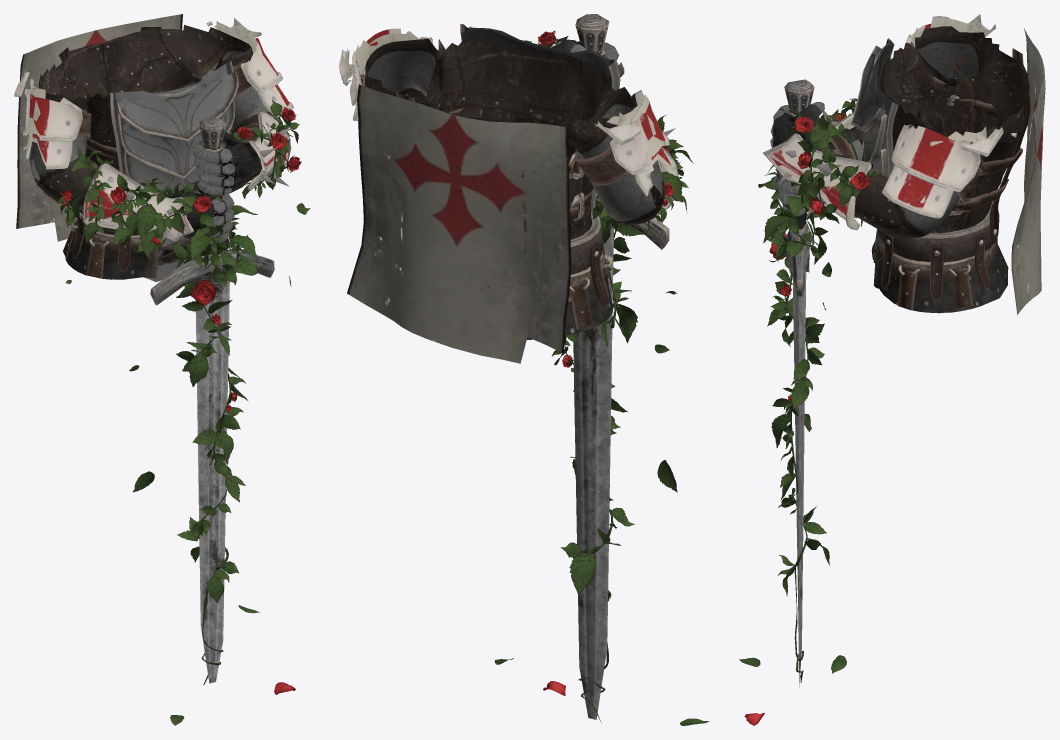
The model's file is gauntlets-mobile.glb.
3 renders of one model, left to right at view 1: azimuth 30°, elevation 25°; view 2: azimuth 150°, elevation 25°; view 3: azimuth 270°, elevation 25°, orthographic. The views are drawn at different scales.
Parts seen in each view (by area): view 1: Object_4, Object_25, Object_18, Object_24, Object_103, Object_10, Object_22; view 2: Object_10, Object_25, Object_103, Object_18, Object_4, Object_24; view 3: Object_25, Object_18, Object_4, Object_24, Object_10, Object_103.
Boxes of the visible parts, x1,y1,x2,y2 form: Object_4: [57, 99, 310, 725]; Object_25: [30, 25, 280, 278]; Object_18: [14, 18, 293, 244]; Object_24: [65, 61, 238, 279]; Object_103: [150, 118, 274, 683]; Object_10: [16, 14, 182, 241]; Object_22: [96, 234, 192, 281]; Object_10: [347, 84, 571, 363]; Object_25: [365, 38, 665, 329]; Object_103: [573, 14, 669, 719]; Object_18: [339, 28, 678, 223]; Object_4: [494, 30, 709, 725]; Object_24: [460, 24, 624, 339]; Object_25: [849, 26, 1030, 309]; Object_18: [763, 14, 1016, 230]; Object_4: [739, 98, 882, 725]; Object_24: [851, 38, 1008, 313]; Object_10: [1011, 28, 1045, 314]; Object_103: [784, 79, 814, 687].
Bounding box in the file's own units: 0.9273 × 2.05 × 0.9125.
Materials: 7 (7 with a texture image).
